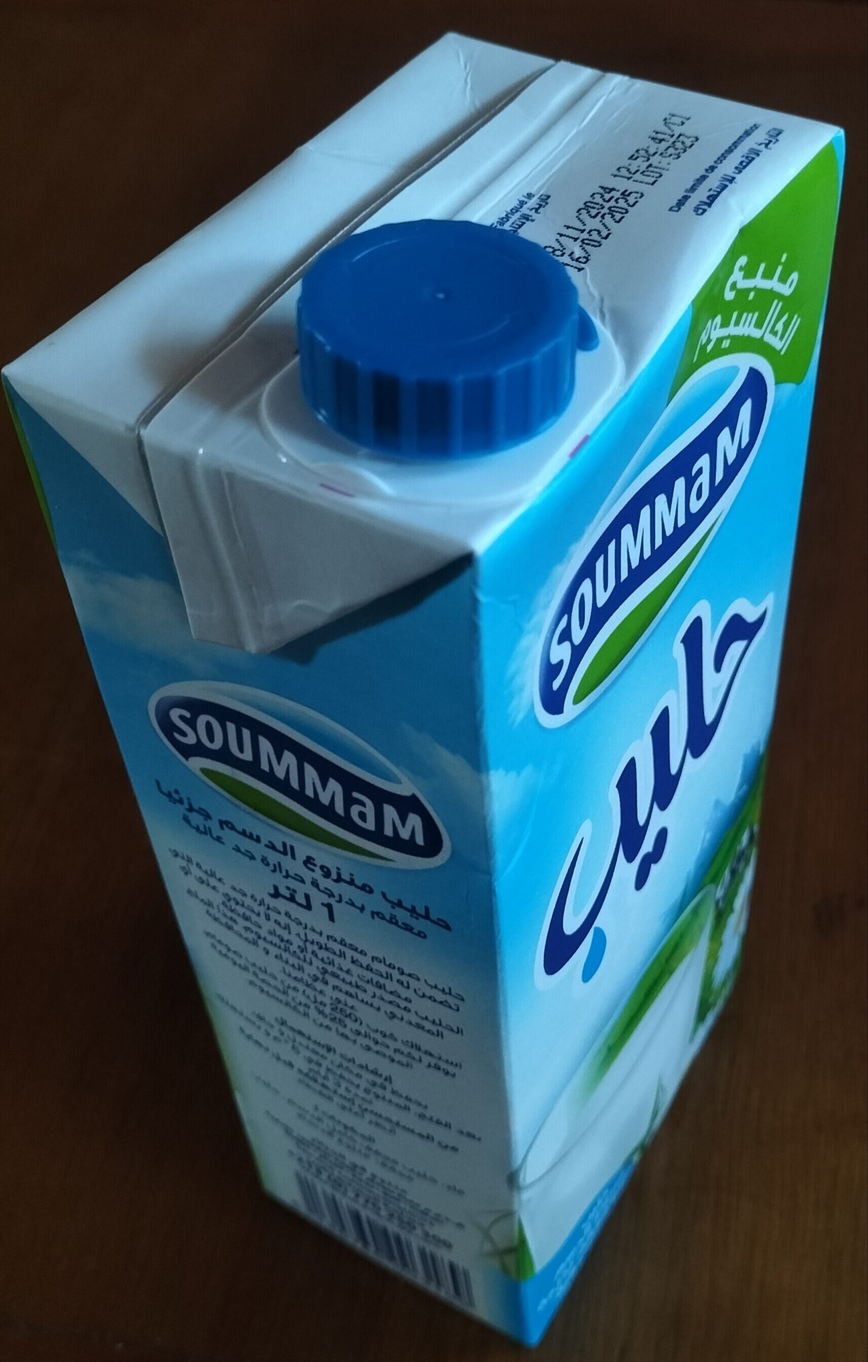soummam_milk: (9, 23, 868, 1362)
